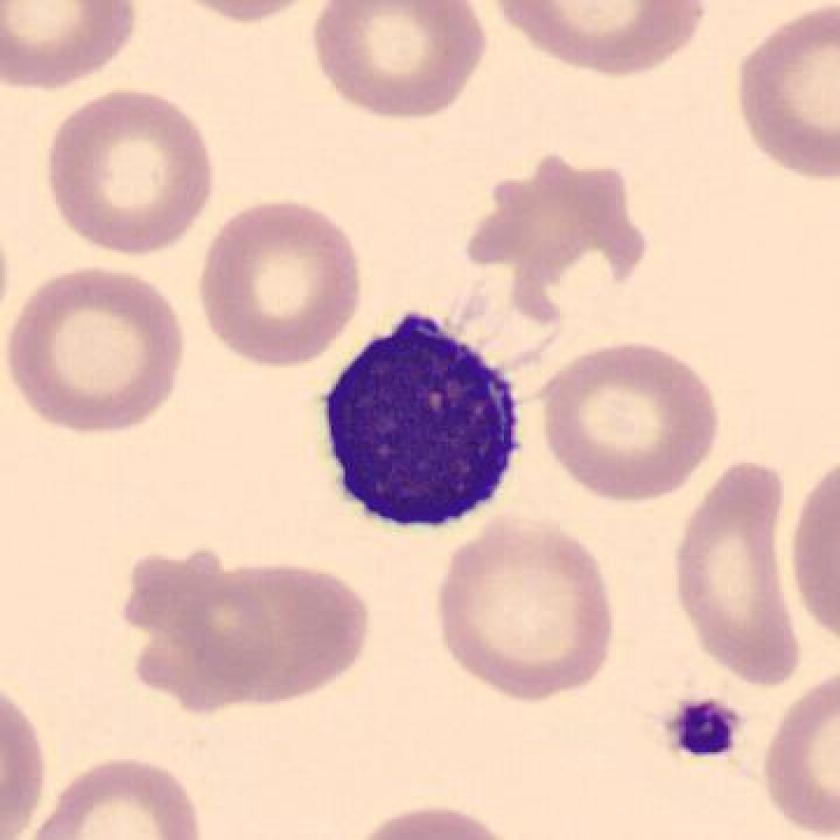lymphocyte: (314, 302, 531, 547)
